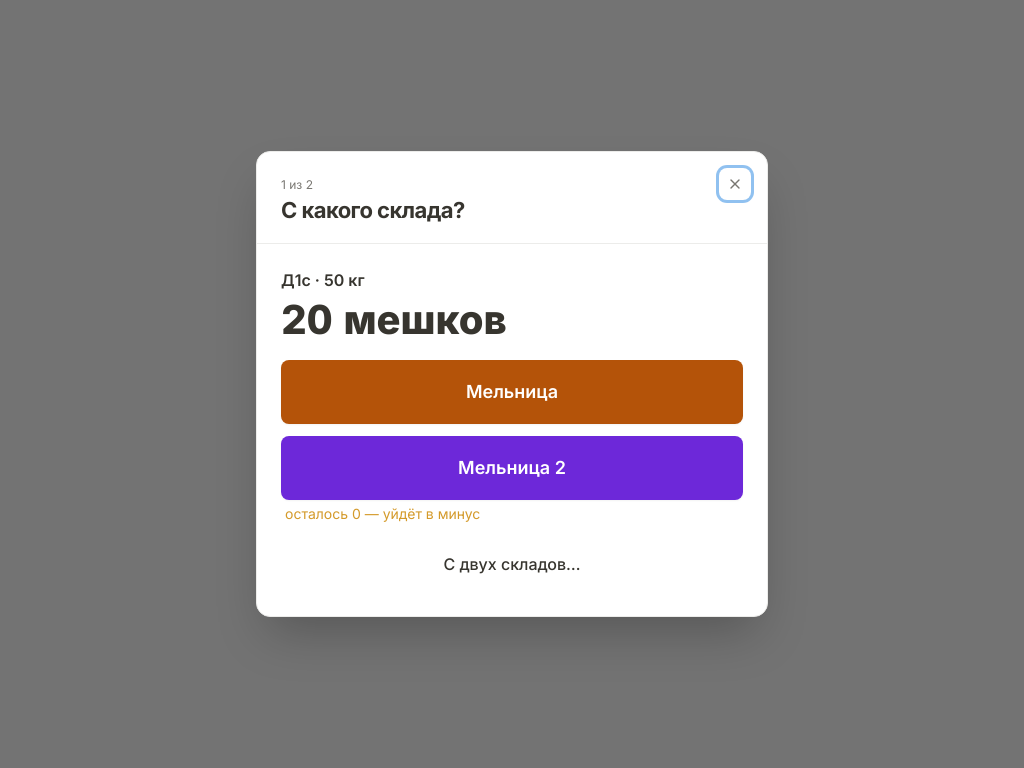
Test: ShipmentSourcesSheet › спрашивает по товару без предвыбора, касание записывает ответ и ведёт дальше
This screenshot has width=1024, height=768.
Check: the text "1 из 2" is shown, box x1=281 y1=177 x2=313 y2=192
Check: the text "Д1с · 50 кг" is shown, box x1=281 y1=270 x2=364 y2=290
Click the button "Мельница 2".
click(512, 468)  # box x1=281 y1=436 x2=743 y2=500
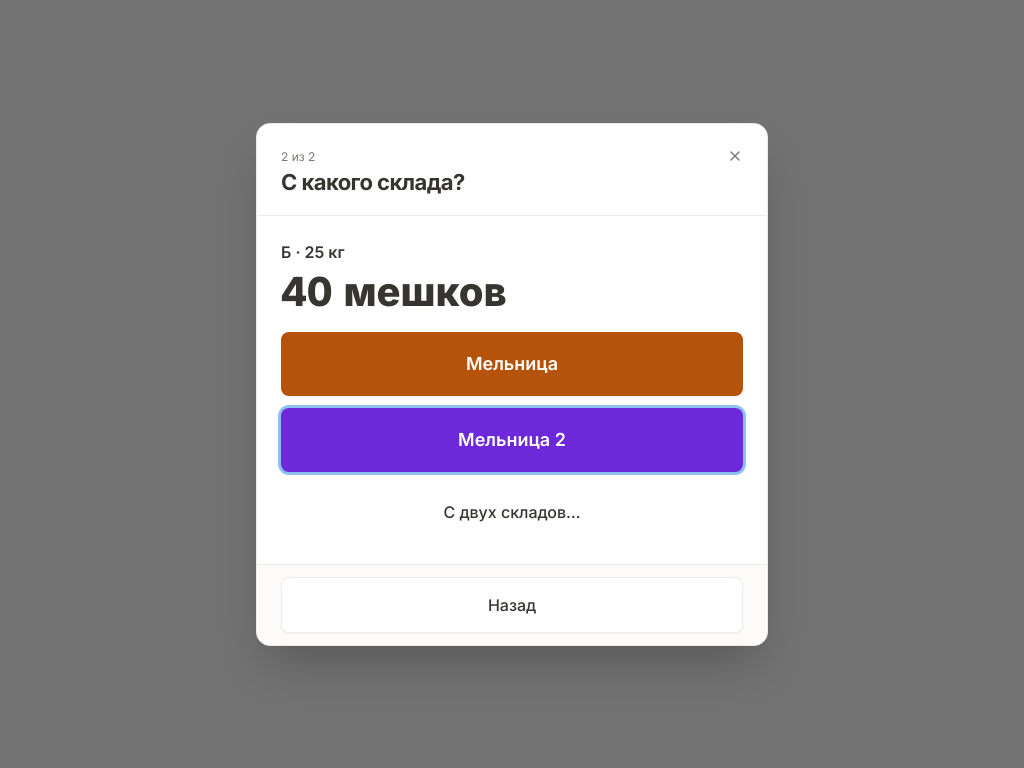
Check: the text "2 из 2" is shown, box x1=281 y1=148 x2=315 y2=164
Check: the text "Б · 25 кг" is shown, box x1=281 y1=242 x2=345 y2=262
Click the button "Назад".
click(512, 604)  # box x1=281 y1=576 x2=743 y2=632
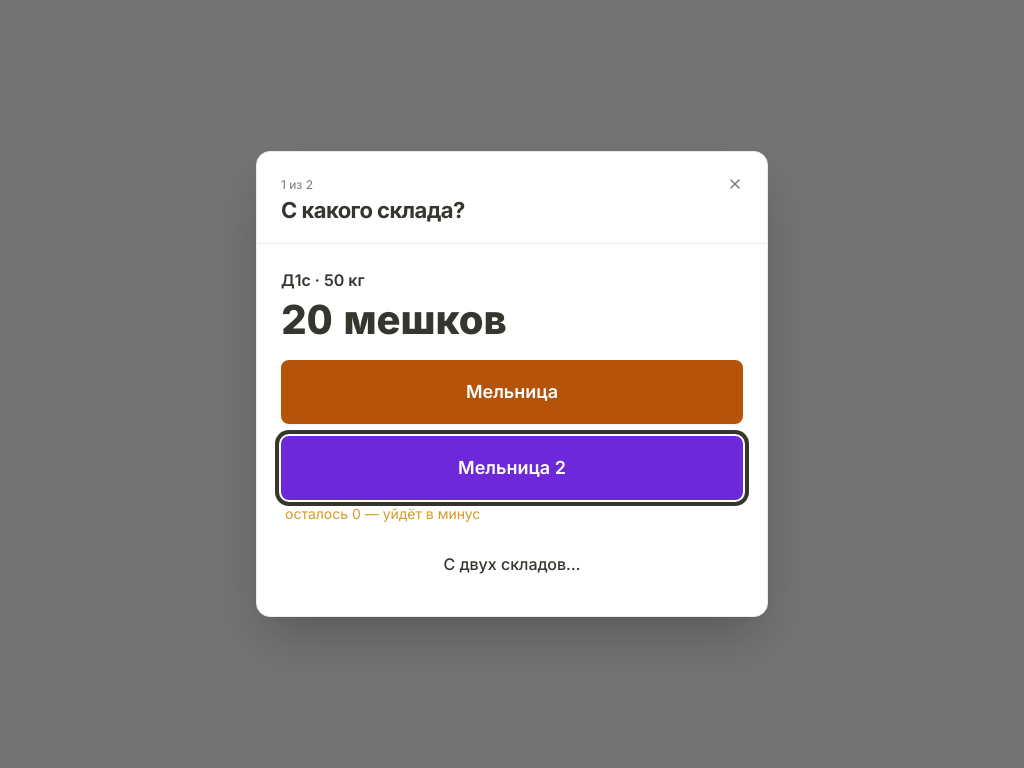
Check: the button "Мельница 2" is shown, box x1=281 y1=436 x2=743 y2=500
Check: the text "1 из 2" is shown, box x1=281 y1=177 x2=313 y2=192
